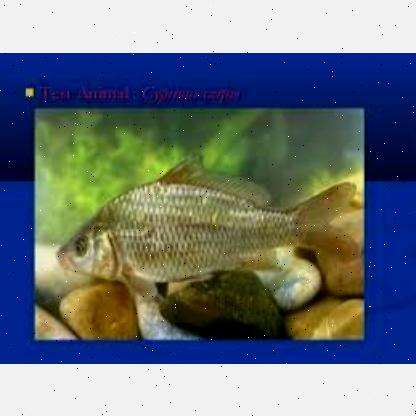ikan-mas: (54, 166, 352, 284)
